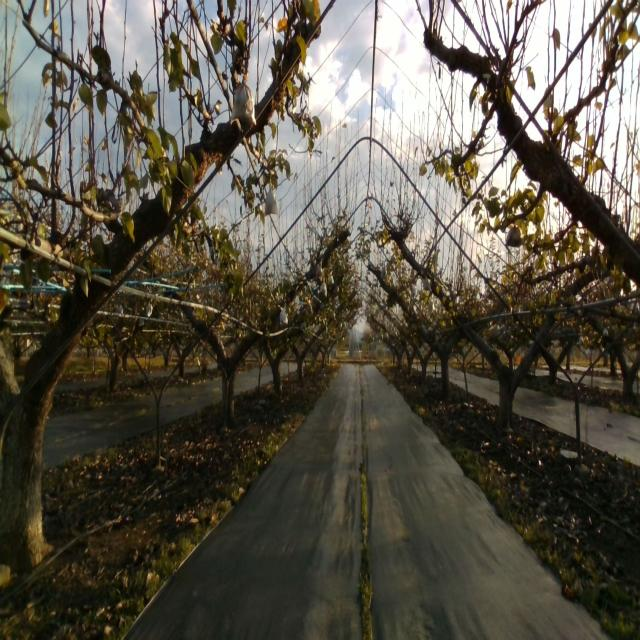pearbags: (230, 81, 256, 128), (265, 180, 280, 218), (505, 224, 522, 248)
